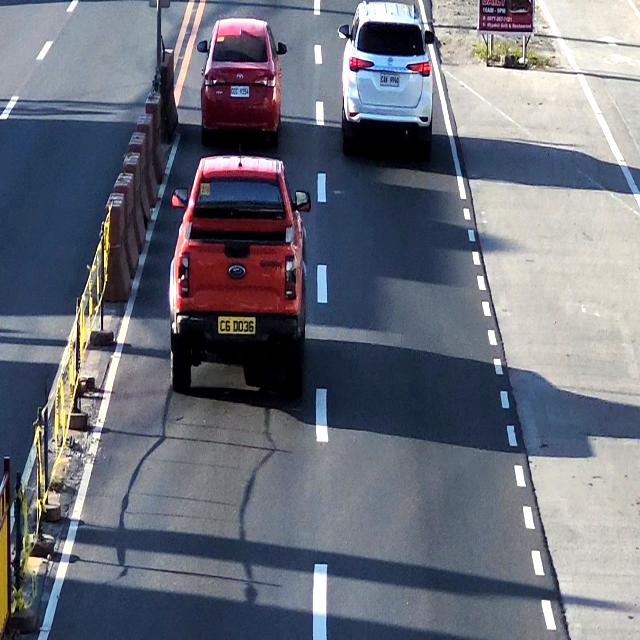Car: (168, 157, 304, 406), (345, 0, 432, 165), (198, 20, 282, 152)
License-Plate: (214, 312, 257, 338), (379, 70, 401, 88), (229, 86, 251, 99)
